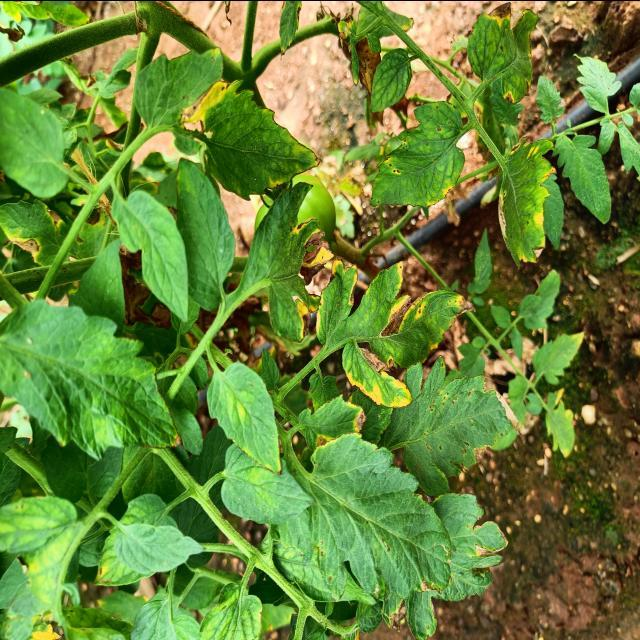Tomato mosaic virus leaf: (406, 354, 528, 486), (264, 180, 336, 344), (366, 96, 466, 210), (364, 257, 478, 353), (494, 130, 559, 270), (466, 1, 542, 108), (0, 192, 74, 269), (339, 346, 413, 410), (299, 391, 369, 454), (314, 254, 360, 344)
